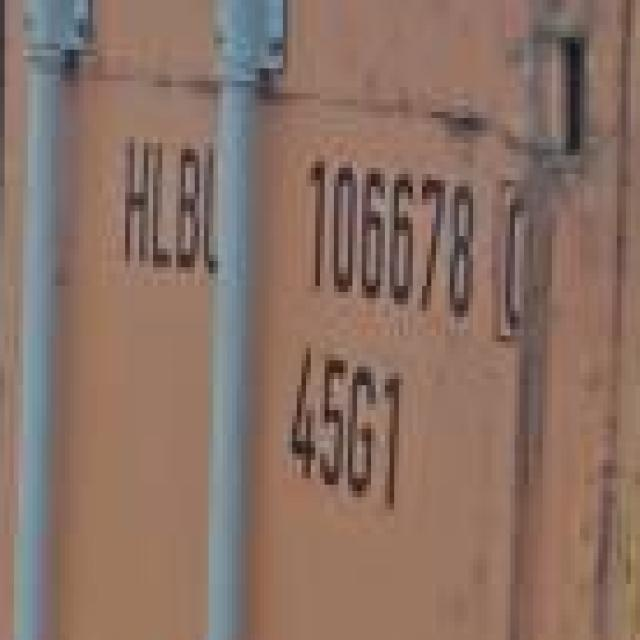dv: (490, 168, 560, 363)
owner: (105, 116, 253, 293)
serial: (294, 142, 481, 334)
size: (280, 338, 439, 522)
